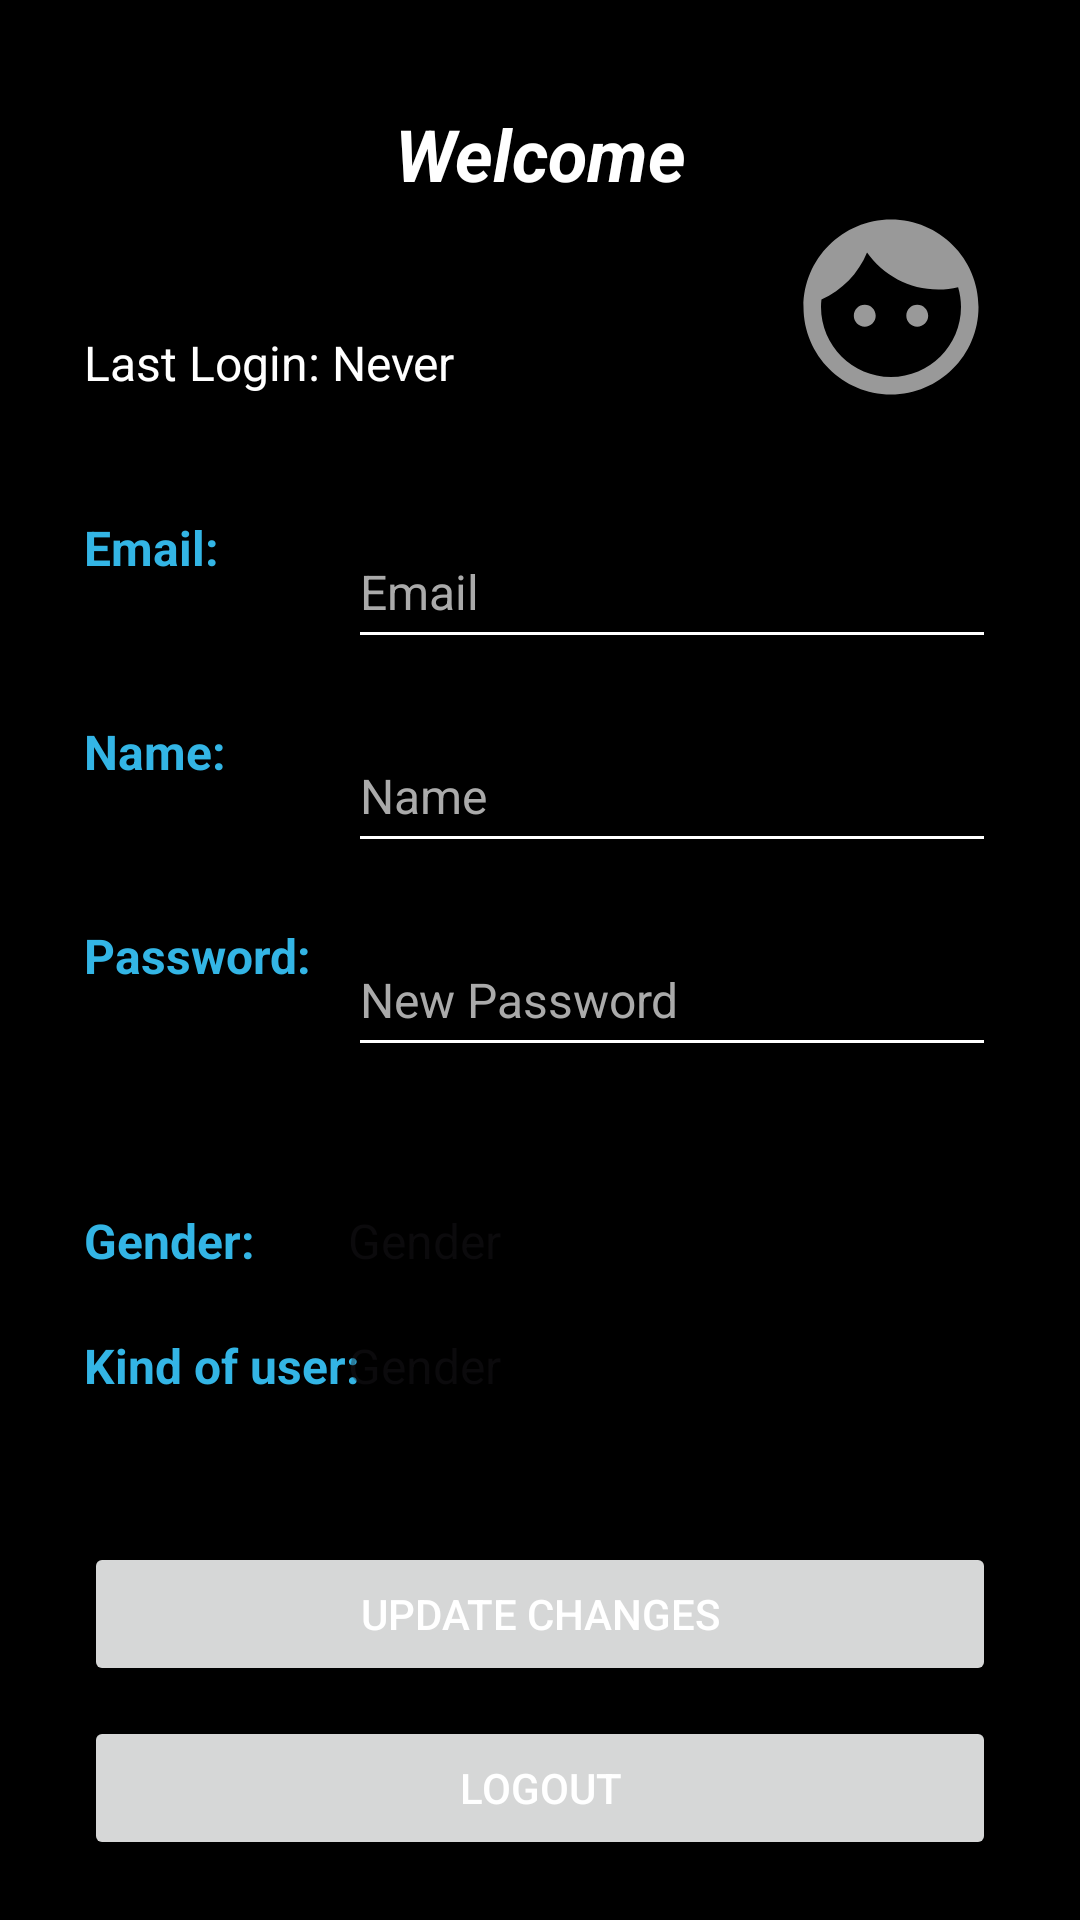

Named icons in this screenshot (1080x1920) and their centers, point (x, y):
face: point (891, 307)
